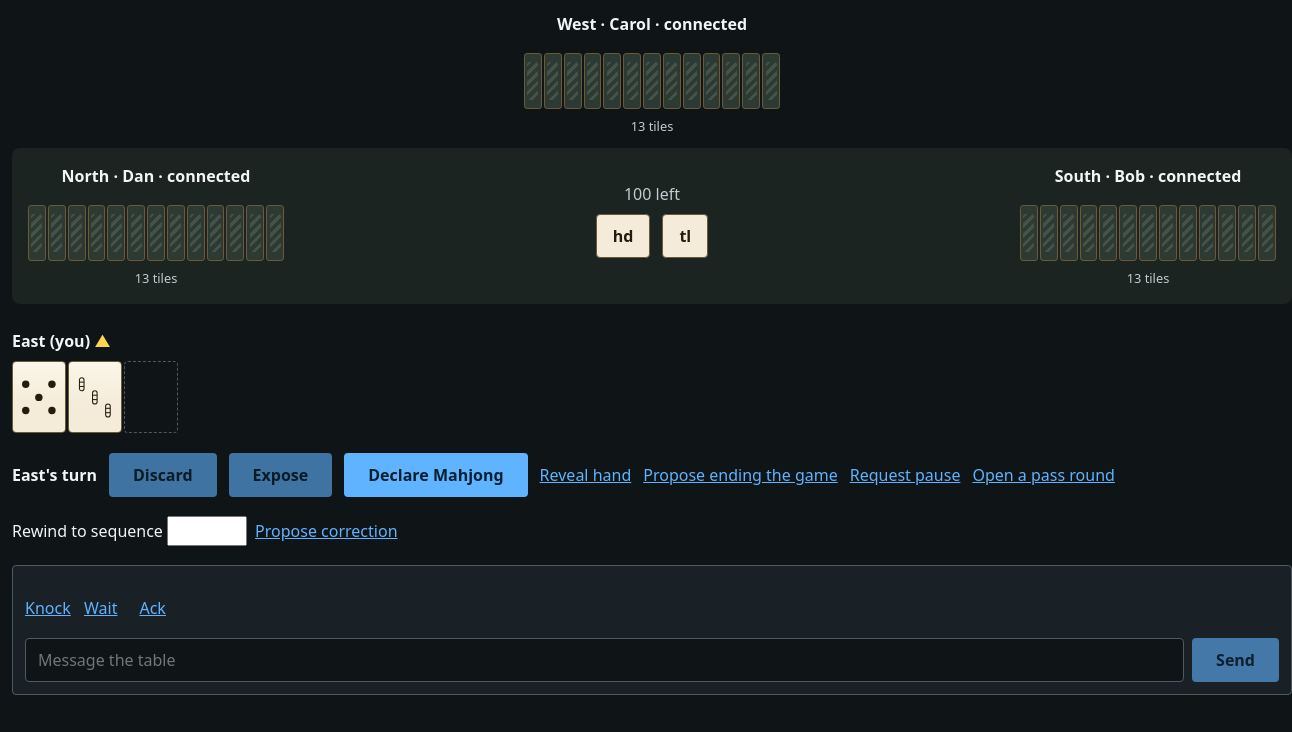
Scenario: GameTable (S-06, docs/32_UX/Screen_Inventory.md §3) › moves the single selected tile with Alt+ArrowRight (docs/24_Accessibility.md §5.2)
Click the button named "Five of dots, position 1 of 3" at (39, 397), box [12,361,66,433]
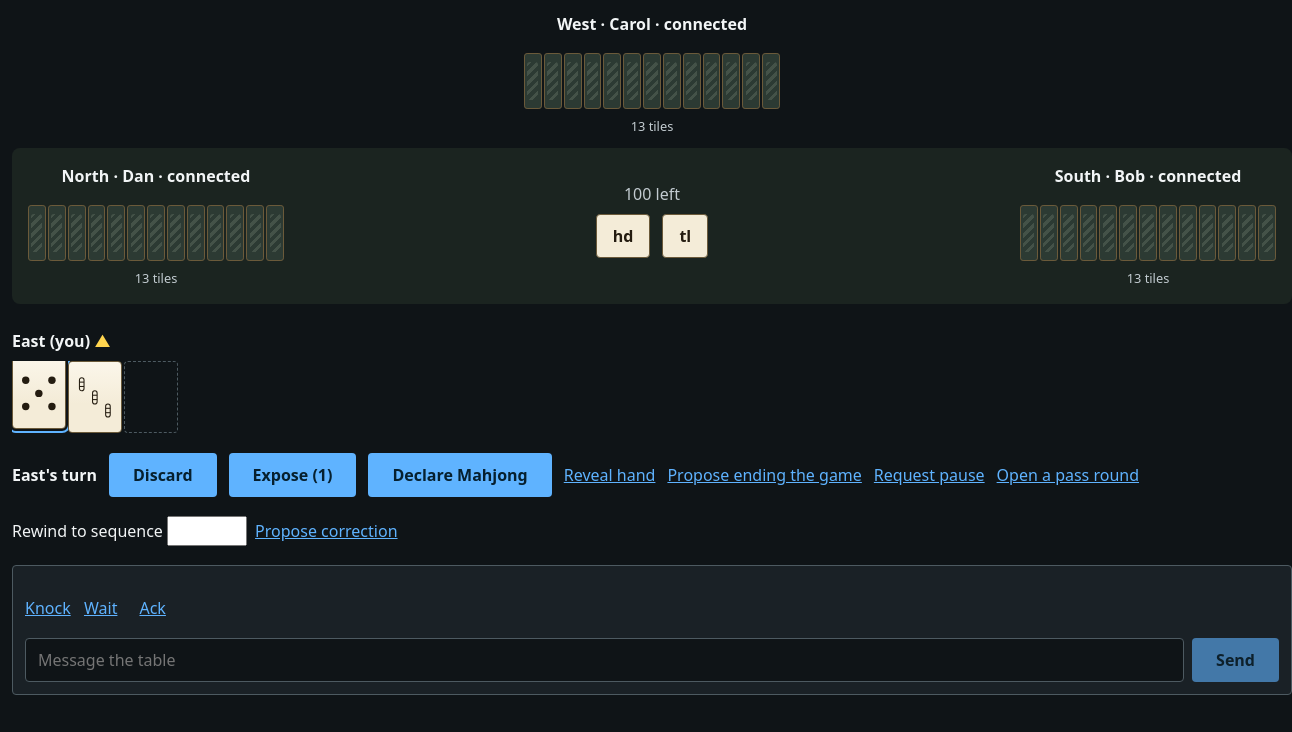
Press ArrowRight
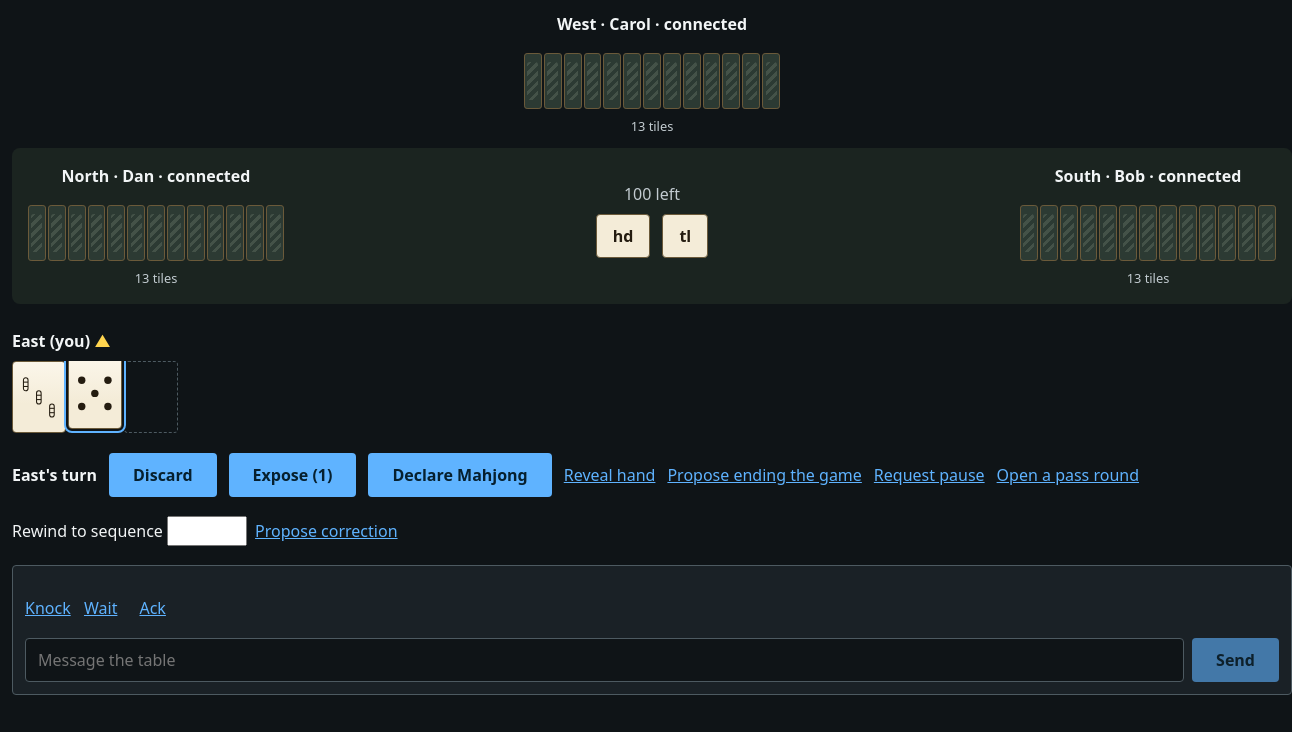
expect the button named "Five of dots, position 2 of 3" is shown: met, box [68,361,122,429]
